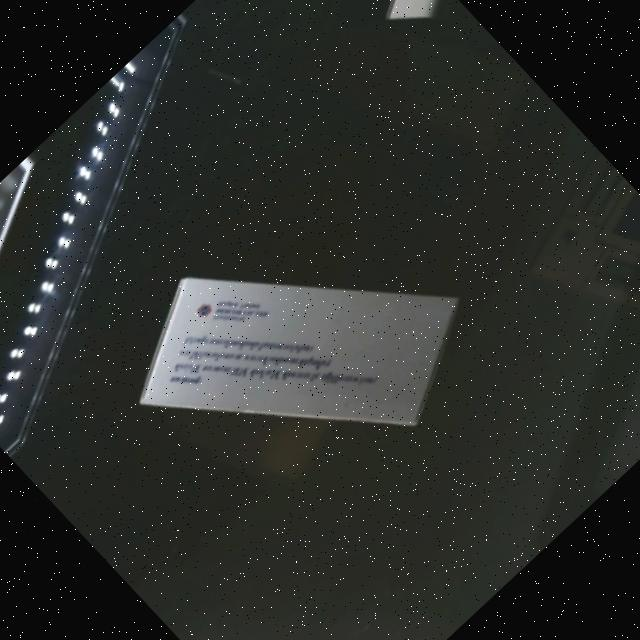sefloc: (139, 273, 461, 429)
